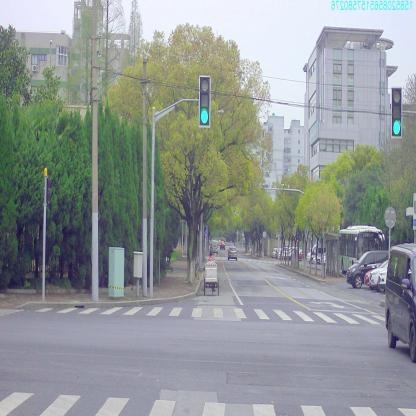traffic-light: (392, 87, 402, 137), (200, 76, 210, 125)
